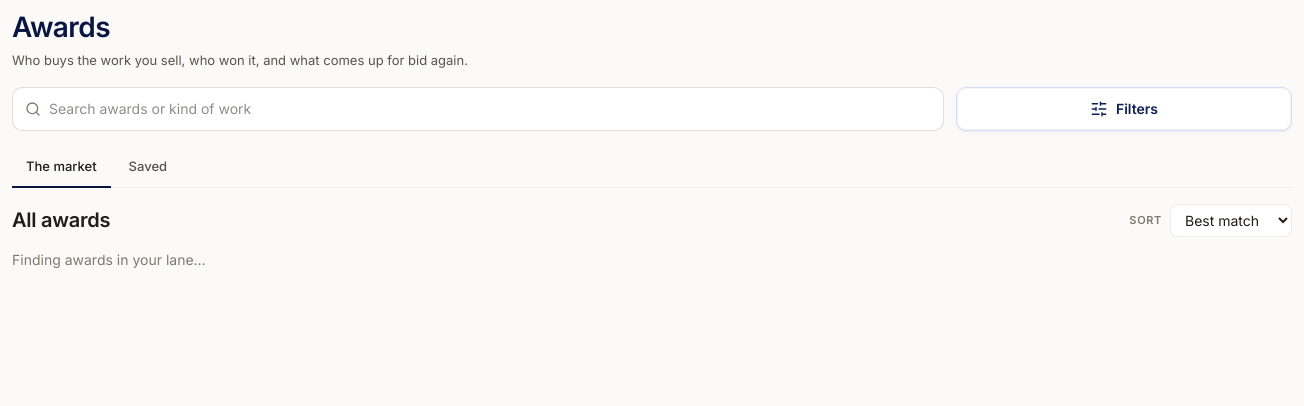
Scenario: Awards empty state › typing keeps trailing spaces and writes the URL once, after a pause
Step 1. Type "janitorial " into the search field labelled "Search awards or kind of work" → (490, 109), box [49,98,931,119]
Wait 300 ms
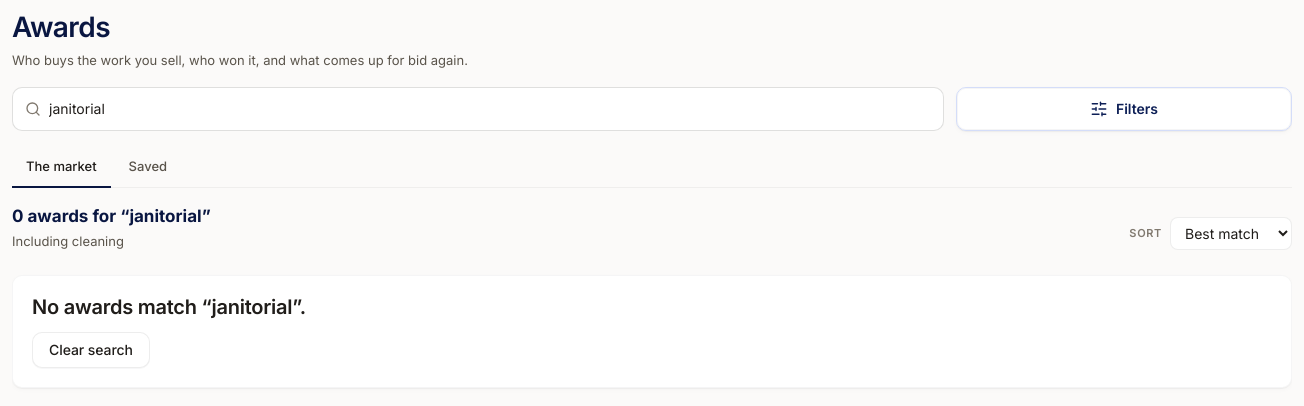
Expected: the 1st text "janitorial" is shown, [120,206,211,226]
